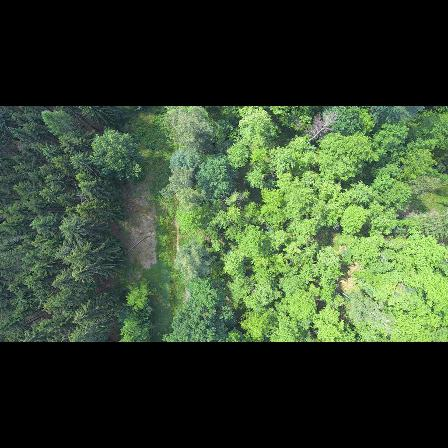Dead: (301, 111, 339, 148)
